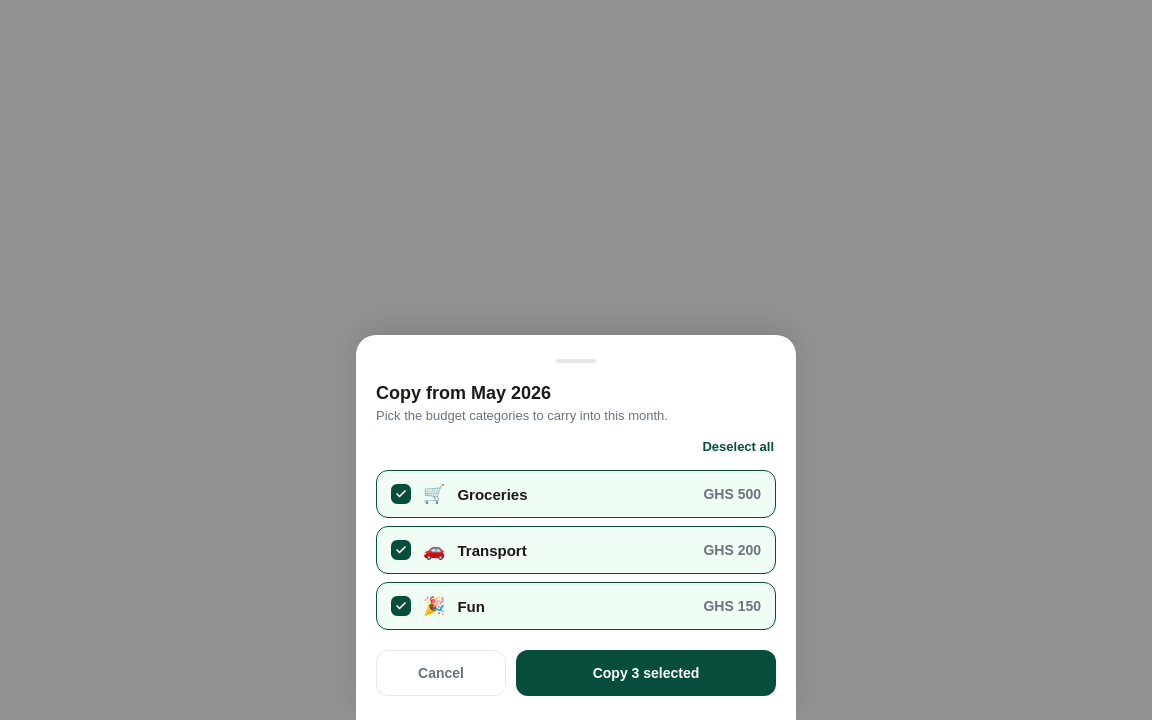
Test: CopyCategoriesSheet › updates the count live when a category is de-selected
Click the button with test id "copy-category-pcat-3" at (732, 606), box top-left (376, 582), bottom-right (776, 630)
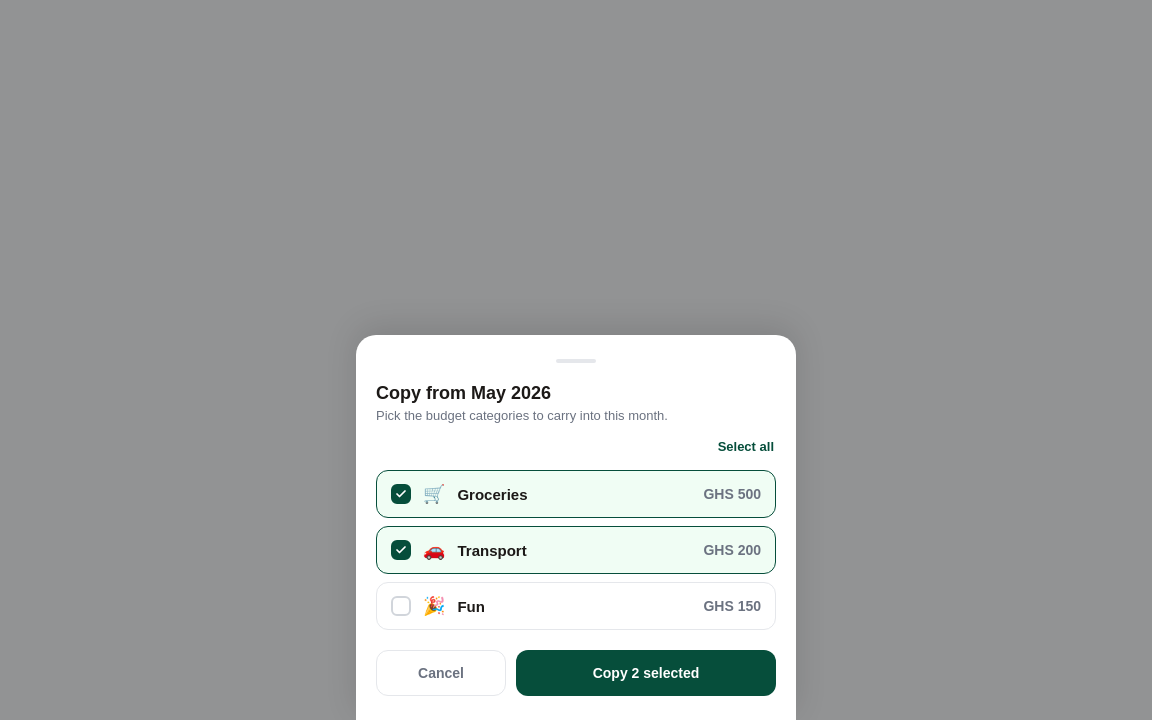
Check: the button with test id "copy-categories-selected-btn" reads "Copy 2 selected", box top-left (516, 650), bottom-right (776, 696)
